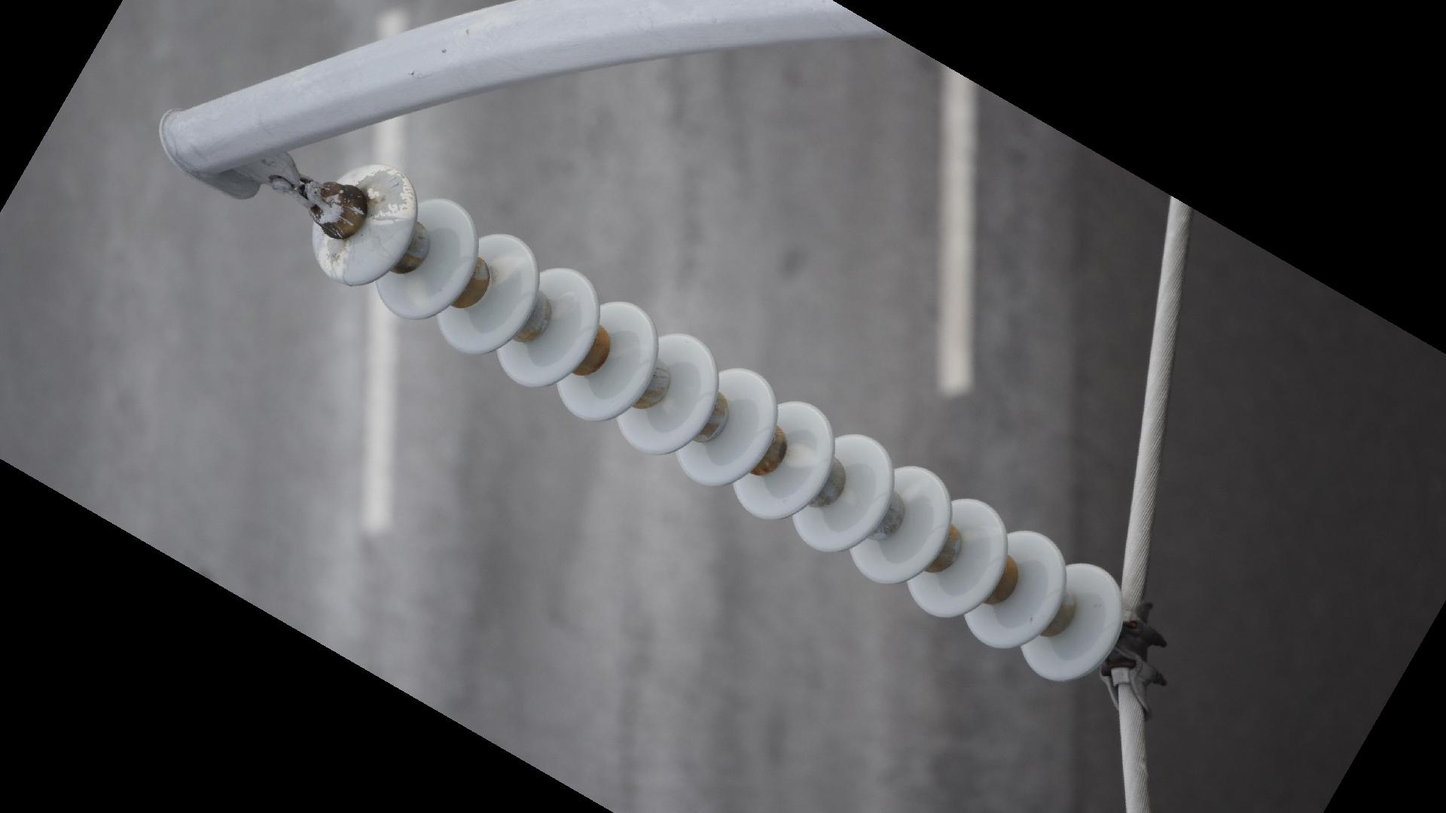insulator: (304, 156, 1134, 692)
insulator_flashover: (354, 163, 419, 225), (312, 232, 354, 286)
